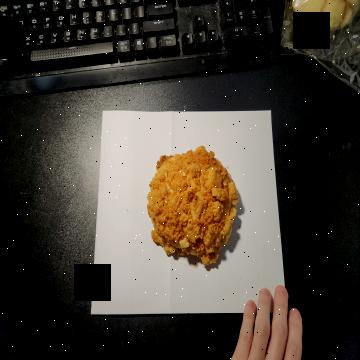soboru_bread: (145, 144, 237, 272)
